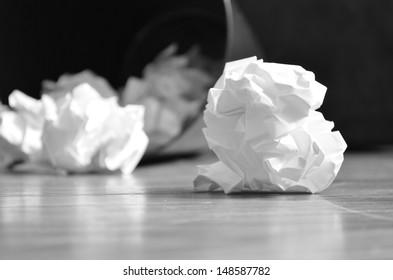paper: (185, 46, 369, 202), (0, 71, 151, 186), (107, 32, 234, 148)
